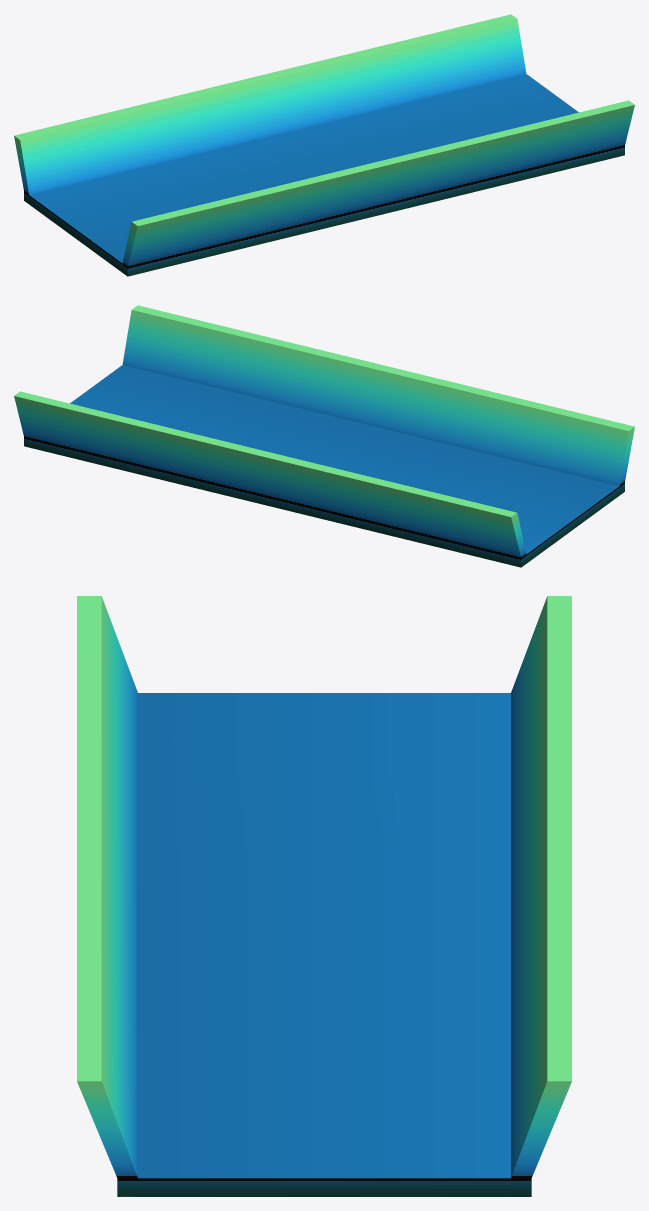
Rendered from containerLarge.FBX.
3 renders of one model, top to bottom at view 1: azimuth 30°, elevation 25°; view 2: azimuth 150°, elevation 25°; view 3: azimuth 270°, elevation 25°, orthographic. The views are drawn at different scales.
Visible parts, largest first — view 1: Box04; view 2: Box04; view 3: Box04.
Part boxes in pixels (<box>): Box04: <box>14,14,634,276</box>; Box04: <box>14,305,634,567</box>; Box04: <box>77,596,571,1196</box>.
Size of the model in its own units: 12 by 1.33 by 5.18.
